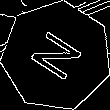N_SE: (24, 26, 89, 87)
